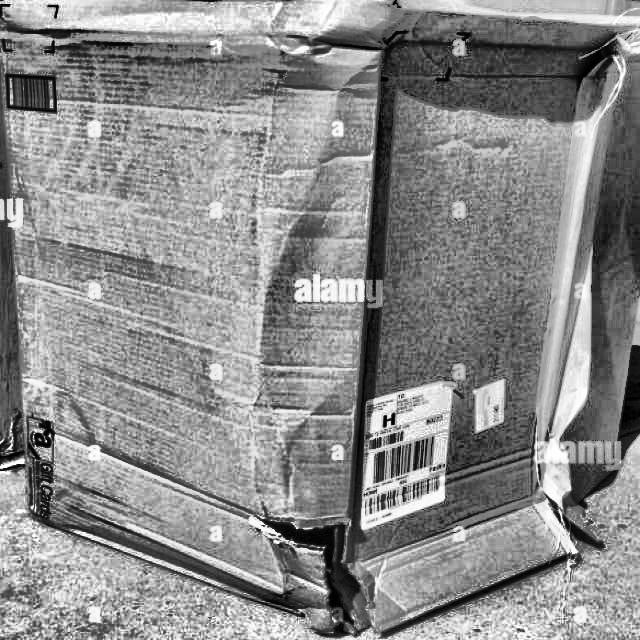box: (0, 0, 639, 639)
hole: (253, 511, 356, 633)
